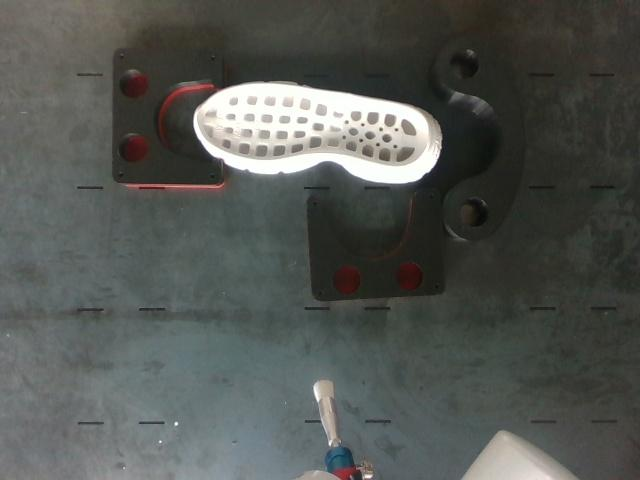shoes: (197, 85, 428, 166)
